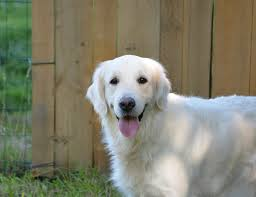Golden Retriever: (84, 49, 256, 197)
